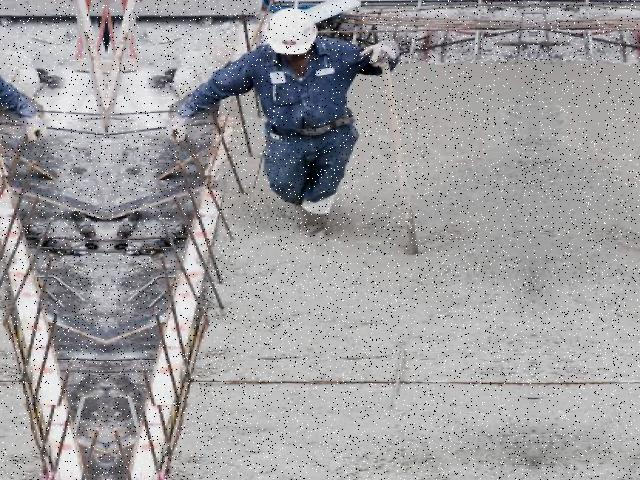Helmet: (259, 2, 327, 62)
